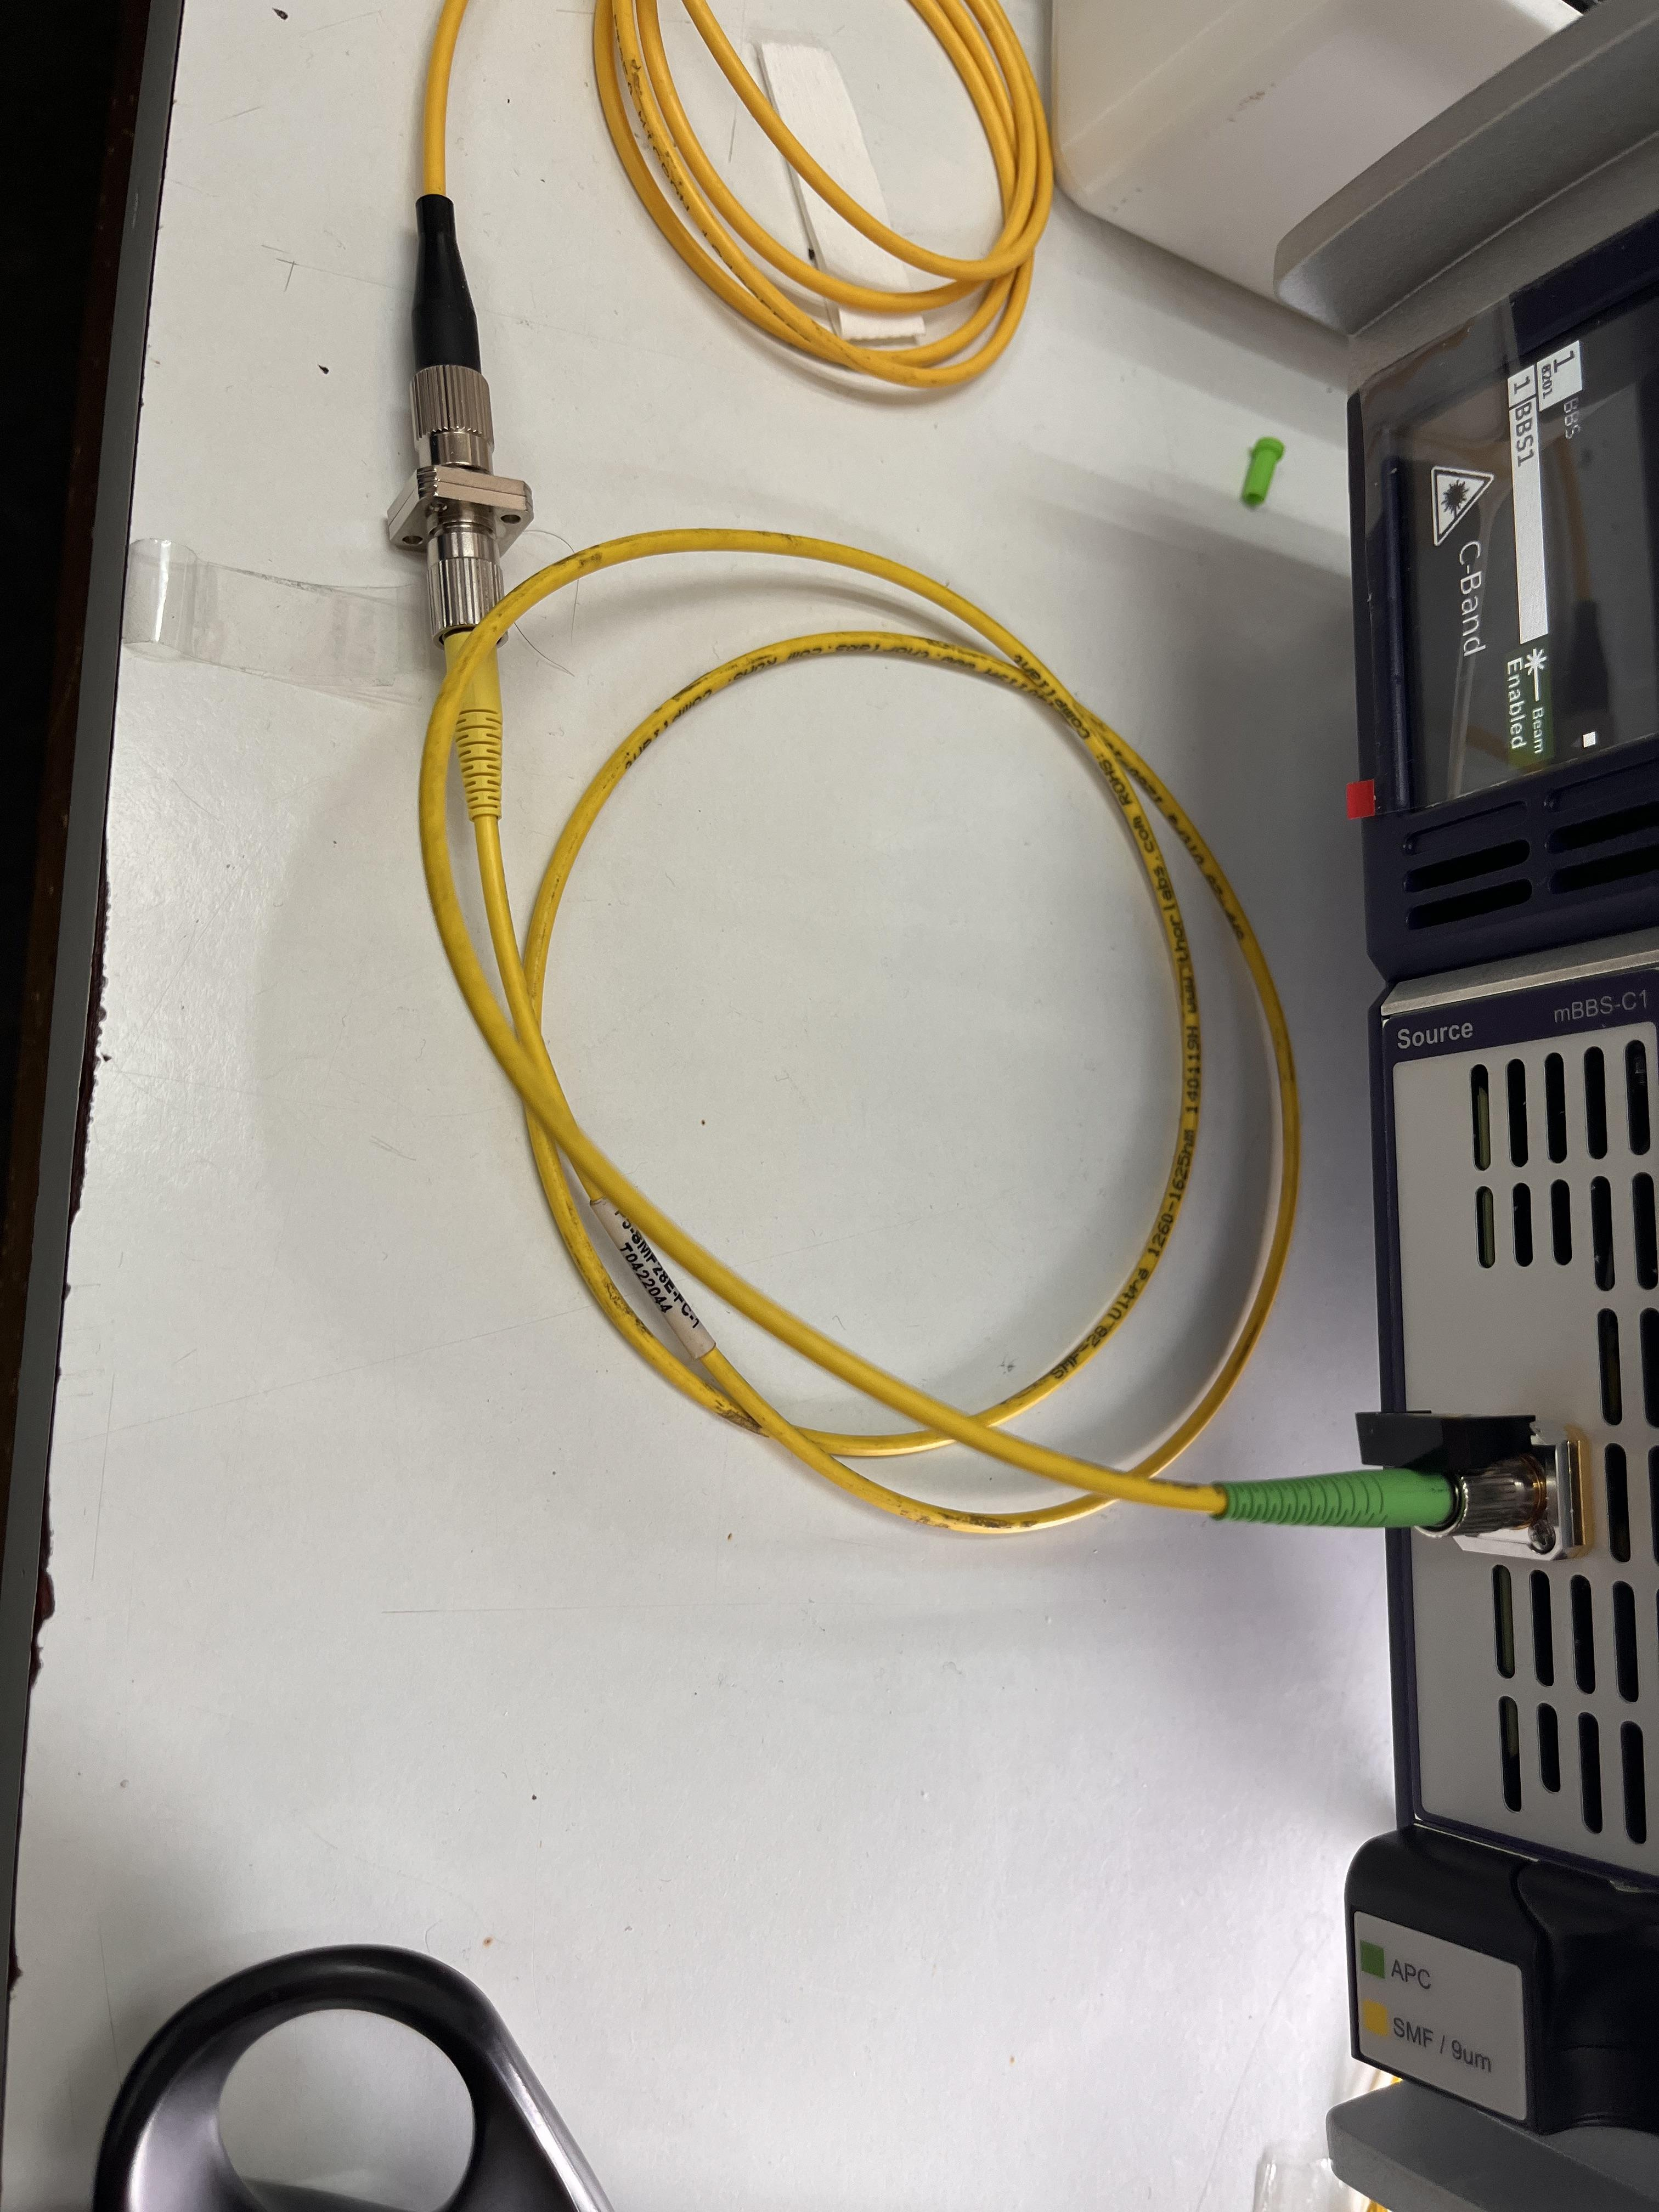fiber_cable: (411, 189, 1421, 1550), (590, 0, 1048, 398)
